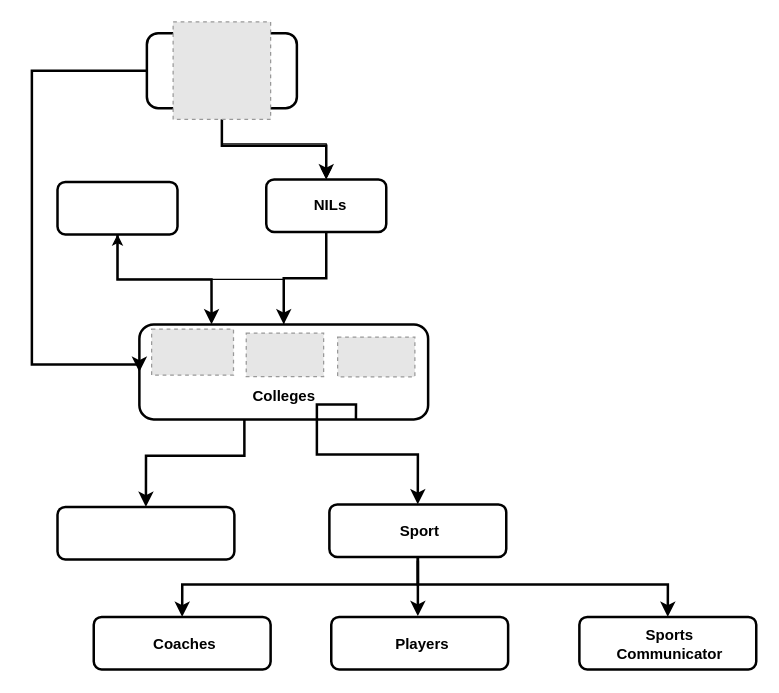
The diagram is 779 pixels wide and 693 high, and some of its shapes have lost their labels. Grey dashed boxes stand in for pictures. The shapes that lost their labels are listed below. From the top down, each one's centre as x and y in pixels, then its label:
At [117,207]: "MMRs".
At [145,532]: "Athletic Director".
